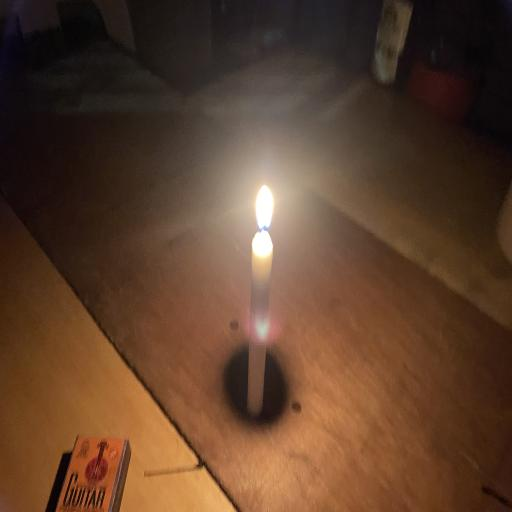fire: (210, 150, 312, 278)
